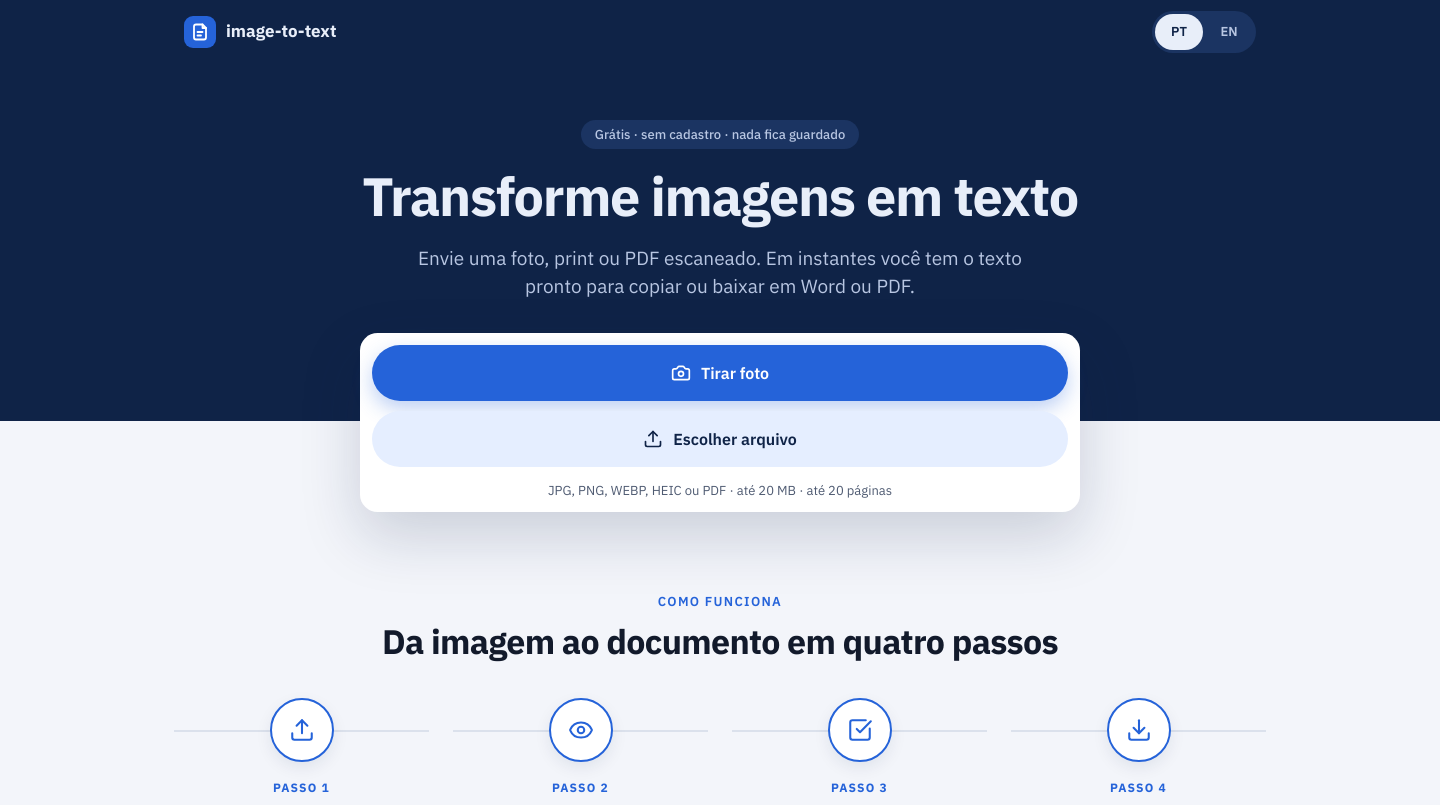
it: moldura e idioma › troca para inglês na hora, sem recarregar
This screenshot has width=1440, height=805.
Expected: the heading "Transforme imagens em texto" is shown, 362,167 -> 1078,226
Click the button "EN".
click(1229, 32)  # box 1205,14 -> 1253,50
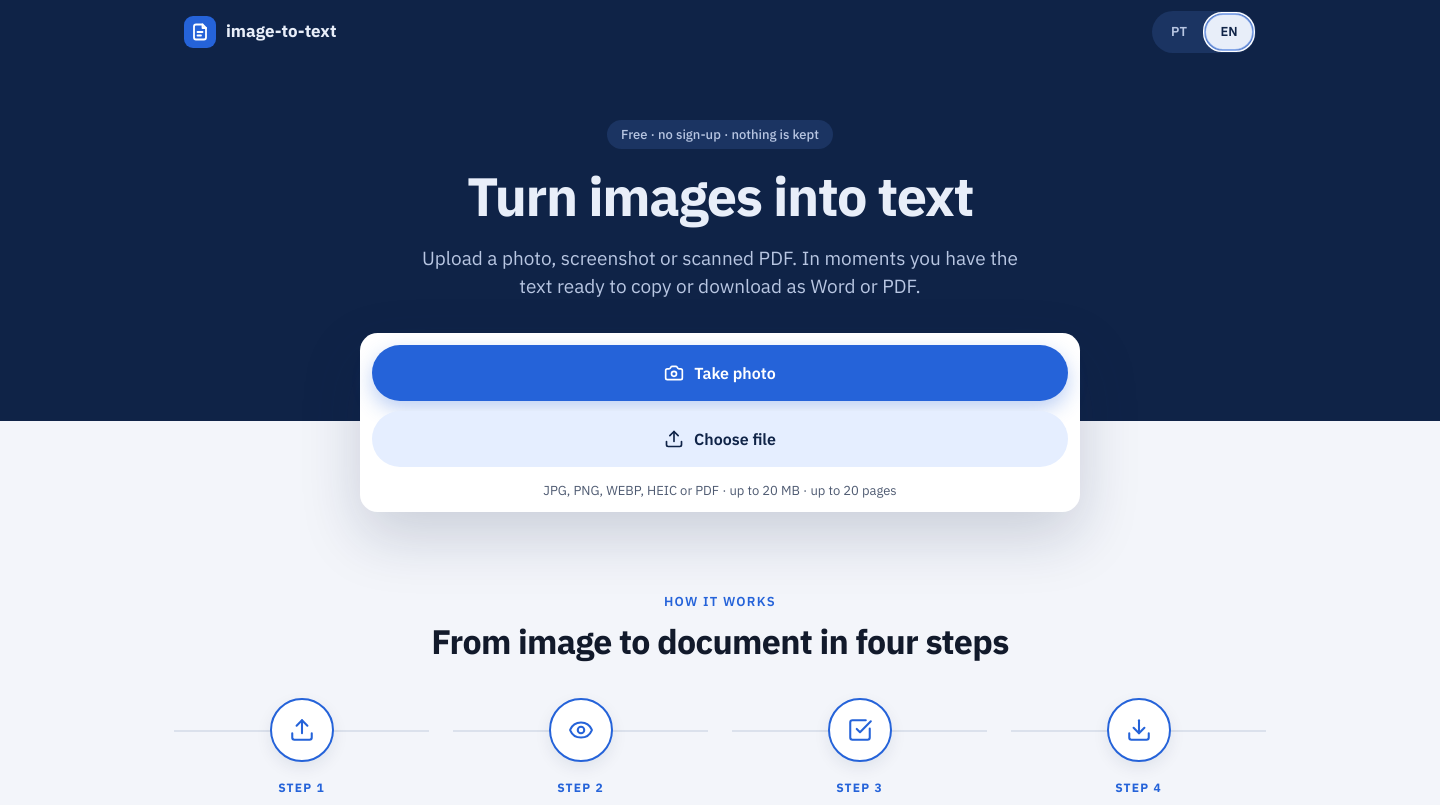
Result: the heading "Turn images into text" is shown at 467,167 -> 973,226
Result: the button "Choose file" is shown at 372,411 -> 1068,467
